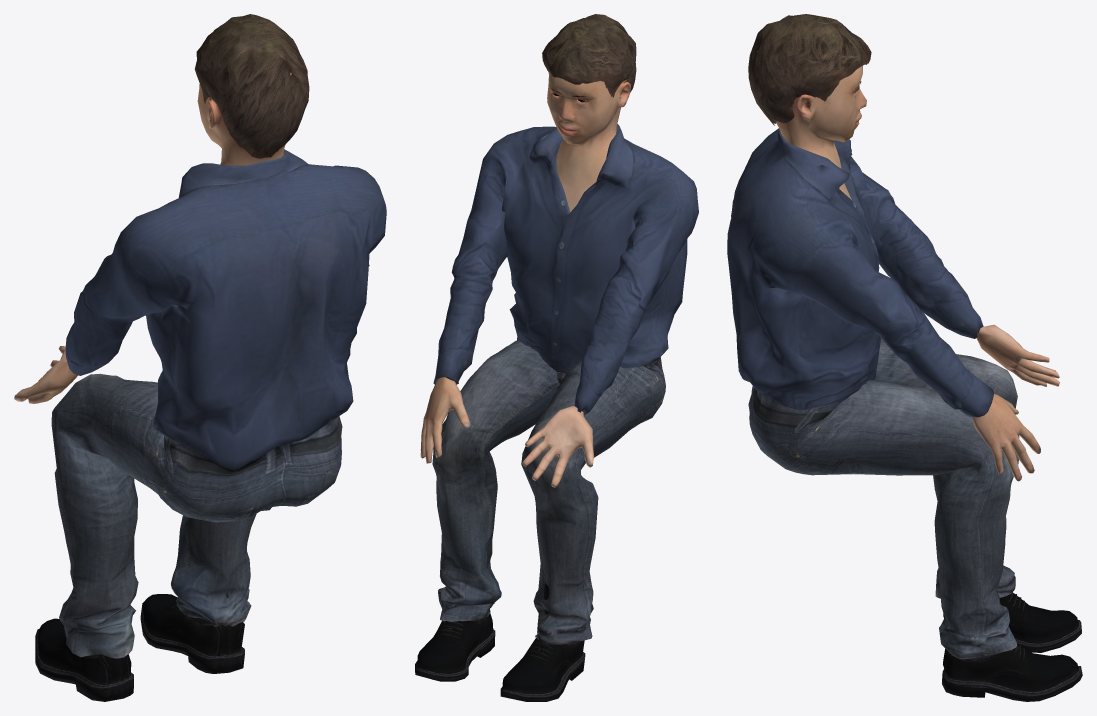
The model's file is sitting_3.gltf.
3 renders of one model, left to right at view 1: azimuth 30°, elevation 25°; view 2: azimuth 150°, elevation 25°; view 3: azimuth 270°, elevation 25°, orthographic. The views are drawn at different scales.
Visible parts, largest first — view 1: sitting; view 2: sitting; view 3: sitting.
Boxes of the visible parts, box(x1,y1,x2,y2) form: sitting: box(14, 14, 386, 701); sitting: box(415, 14, 698, 701); sitting: box(727, 14, 1082, 701).
Size of the model in its own units: 0.4594 by 1.24 by 0.616.
Materials: 6 (6 with a texture image).
